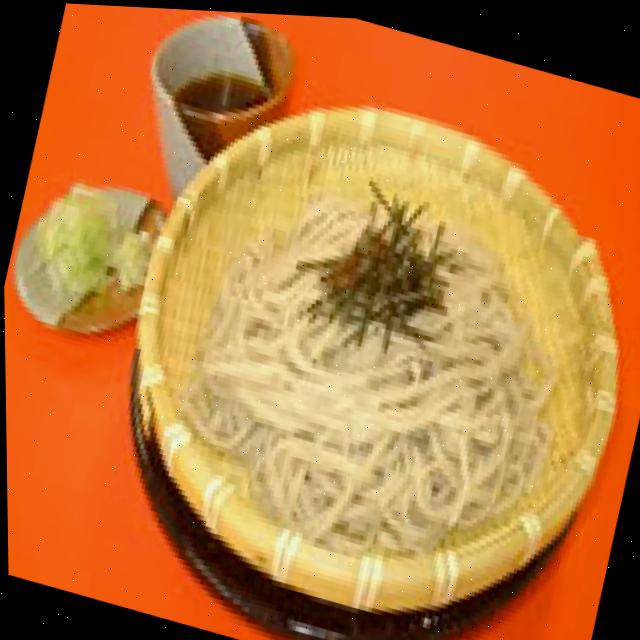面条主食: (66, 35, 640, 640)
